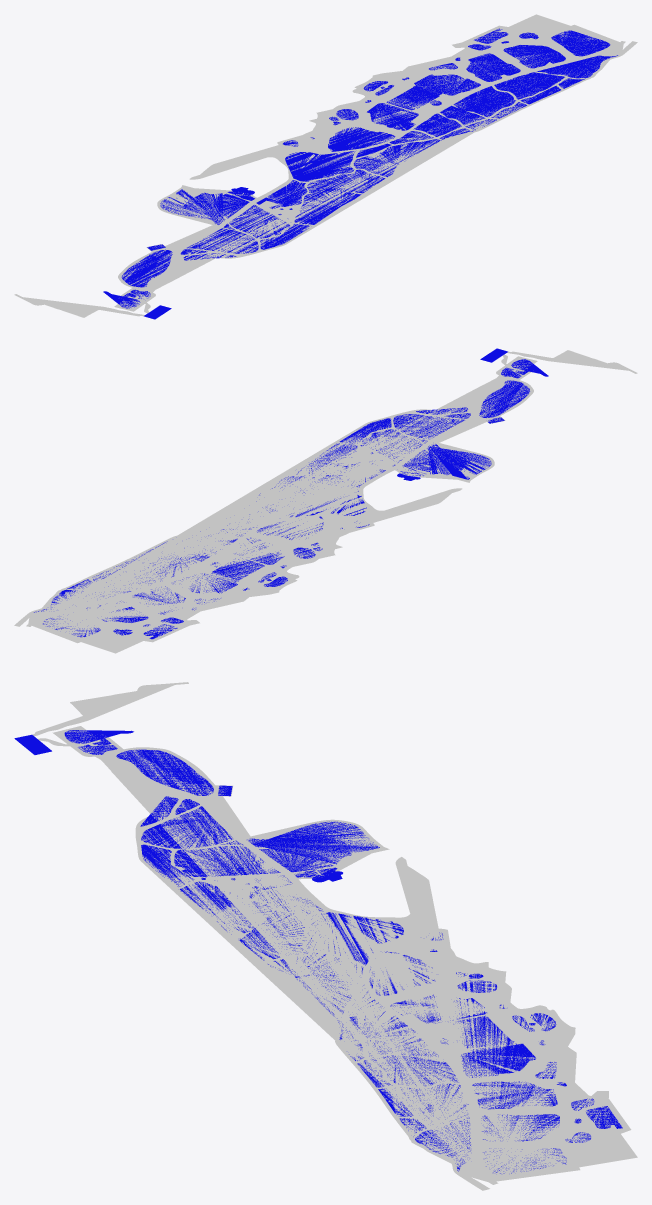
3 renders of one model, top to bottom at view 1: azimuth 30°, elevation 25°; view 2: azimuth 210°, elevation 25°; view 3: azimuth 270°, elevation 25°, orthographic. The views are drawn at different scales.
Visible parts, largest first — view 1: Floor, Building060, Building022, Building058, Building017, Building019, Building064, Building001, Building041, Building066, Building020, Building033 (+12 smaller); view 2: Floor, Building017, Building001, Building033, Building060, Building019, Building035, Building036; view 3: Floor, Building017, Building060, Building001, Building033, Building036, Building054, Building022, Building019, Building064, Building016, Building035 (+4 smaller).
Boxes of the visible parts, x1,y1,x2,y2 form: Floor: (14,14,637,317); Building060: (386,74,480,110); Building022: (285,151,355,181); Building058: (353,119,496,177); Building017: (160,189,225,224); Building019: (294,189,361,224); Building064: (453,86,515,116); Building001: (121,249,172,287); Building041: (328,127,395,151); Building066: (494,72,564,99); Building020: (307,169,385,193); Building033: (187,228,258,253); Floor: (14,350,637,653); Building017: (427,444,491,479); Building001: (479,380,529,417); Building033: (393,414,464,439); Building060: (173,558,264,593); Building019: (296,443,357,477); Building035: (339,418,391,443); Building036: (362,429,422,462); Floor: (32,682,637,1190); Building017: (247,821,379,864); Building060: (453,1015,535,1077); Building001: (116,749,213,795); Building033: (141,806,232,848); Building036: (174,846,280,877); Building054: (472,1081,557,1109); Building022: (307,912,403,965); Building019: (180,881,272,934); Building064: (372,1049,458,1086); Building016: (259,849,333,872); Building035: (141,844,194,886).
Bounding box in the file's own units: 2858 × 1481 × 7.72e-06.
